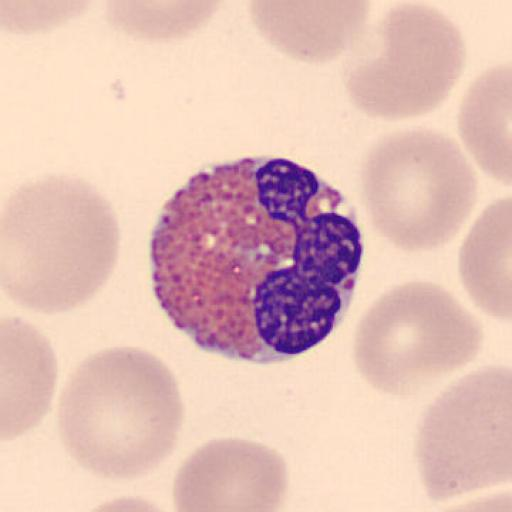RBC: (58, 344, 186, 482), (0, 172, 121, 316), (356, 124, 479, 254), (351, 278, 484, 396), (346, 2, 468, 124), (412, 364, 512, 506), (171, 435, 291, 511), (246, 0, 373, 66), (2, 314, 58, 443), (456, 63, 512, 187), (458, 196, 512, 322), (98, 0, 228, 44), (2, 0, 100, 37), (429, 482, 512, 511), (74, 493, 178, 512), (420, 492, 512, 512)
WBC: (146, 156, 366, 364)
